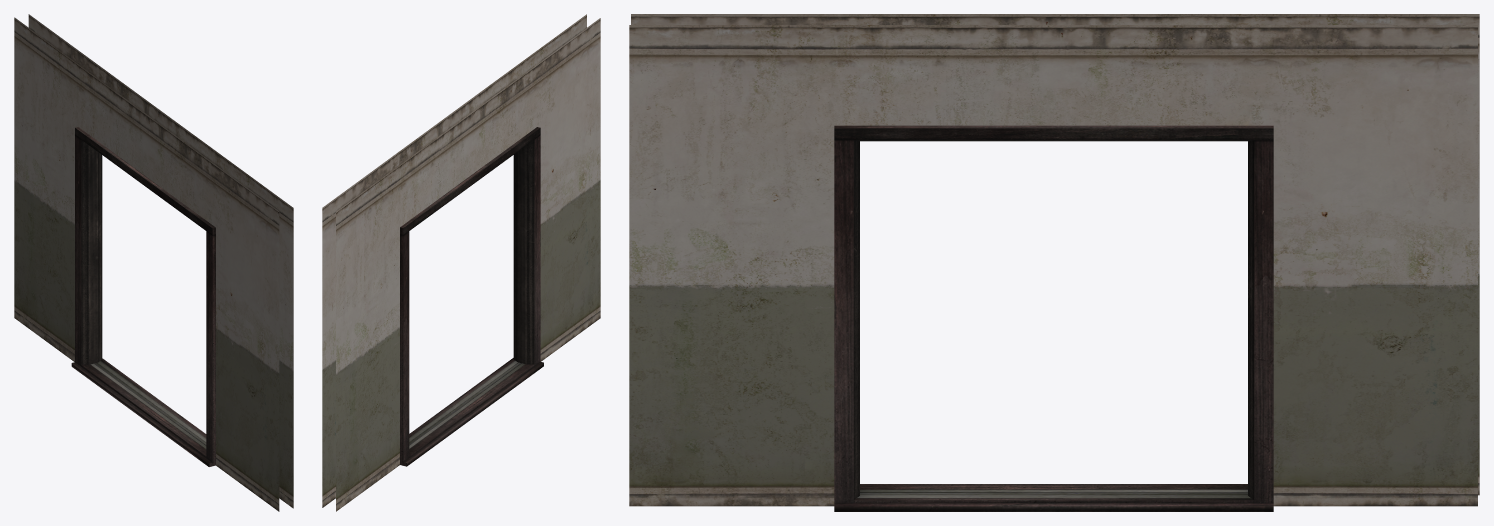
File: wall_doorbig_tile_6m.fbx
3 renders of one model, left to right at view 1: azimuth 30°, elevation 25°; view 2: azimuth 150°, elevation 25°; view 3: azimuth 270°, elevation 25°, orthographic. The views are drawn at different scales.
Parts seen in each view (by area): view 1: wall_doorbig_tile_6m; view 2: wall_doorbig_tile_6m; view 3: wall_doorbig_tile_6m.
Part boxes in pixels (box(x1,y1,x2,y2)): wall_doorbig_tile_6m: box(14, 14, 293, 511); wall_doorbig_tile_6m: box(322, 14, 600, 511); wall_doorbig_tile_6m: box(629, 14, 1479, 511).
Size of the model in its own units: 0.3651 by 3.75 by 6.
